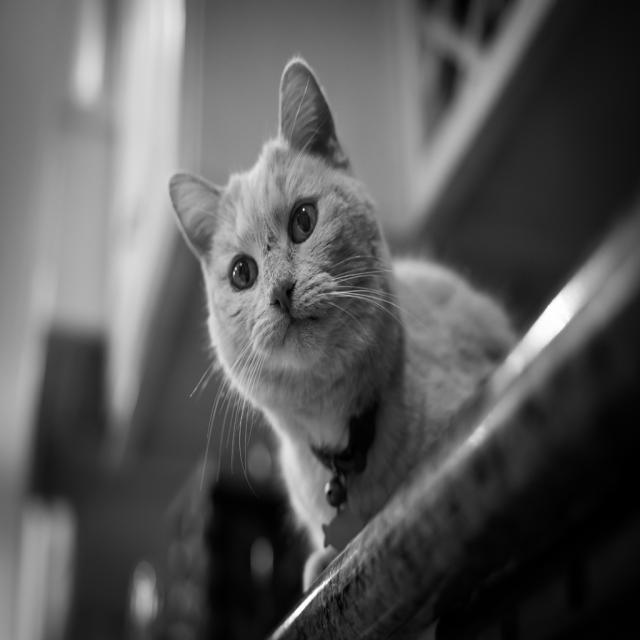Cat: (164, 51, 517, 592)
